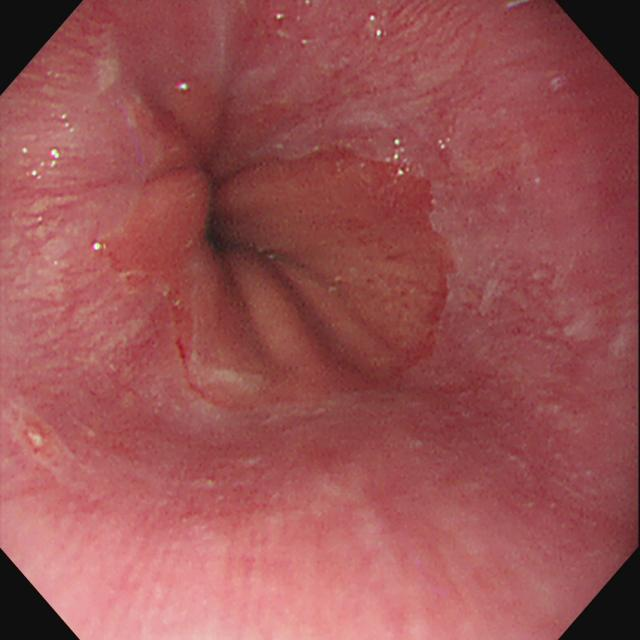I: (104, 67, 464, 403)
